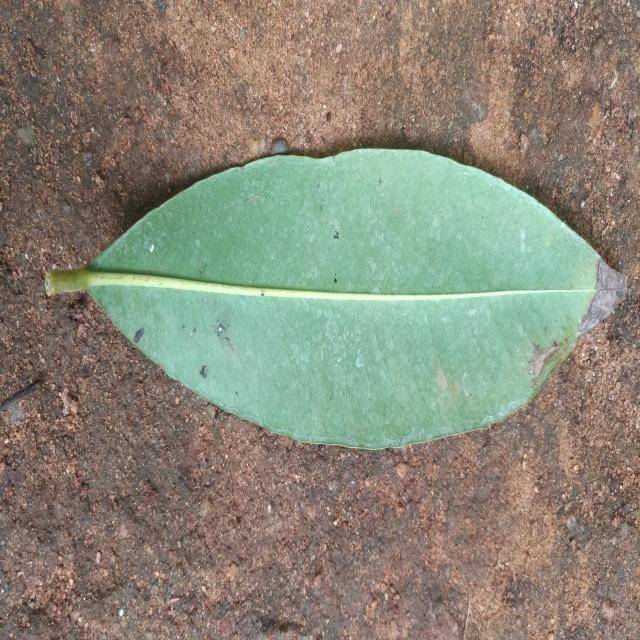nerale: (45, 149, 626, 449)
